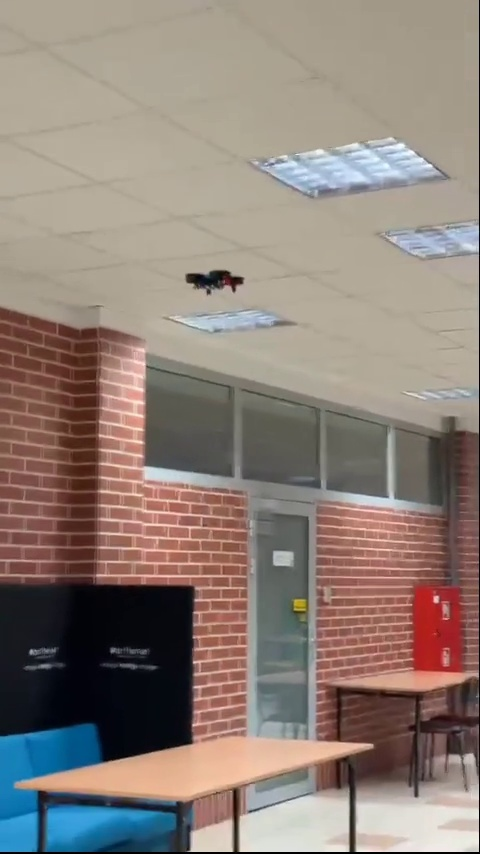drone: (183, 266, 242, 290)
